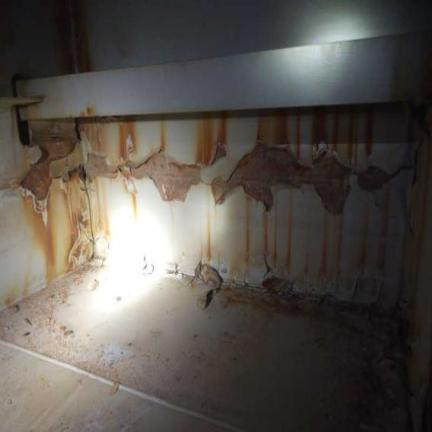besi_tidak_karat: (17, 32, 431, 119), (0, 107, 78, 305)
karat: (211, 144, 351, 214), (21, 122, 77, 199), (132, 151, 200, 201), (20, 149, 51, 199), (357, 165, 402, 192), (74, 164, 91, 221), (85, 153, 117, 179), (91, 224, 93, 240)
